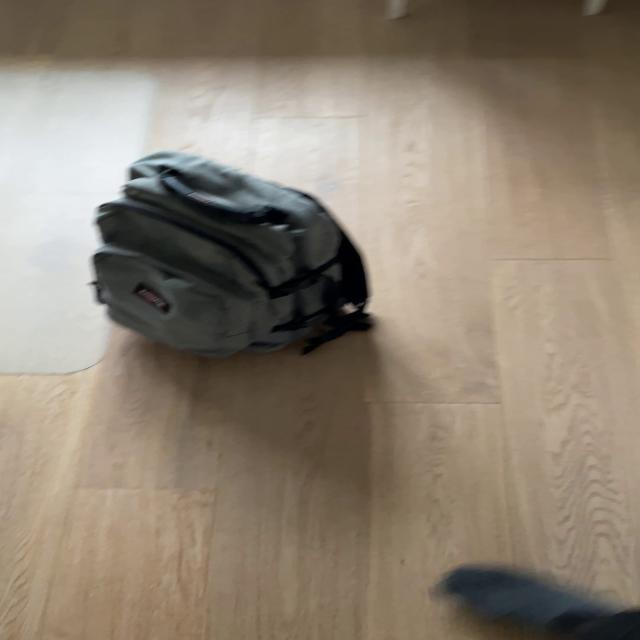backpack: (75, 148, 381, 364)
